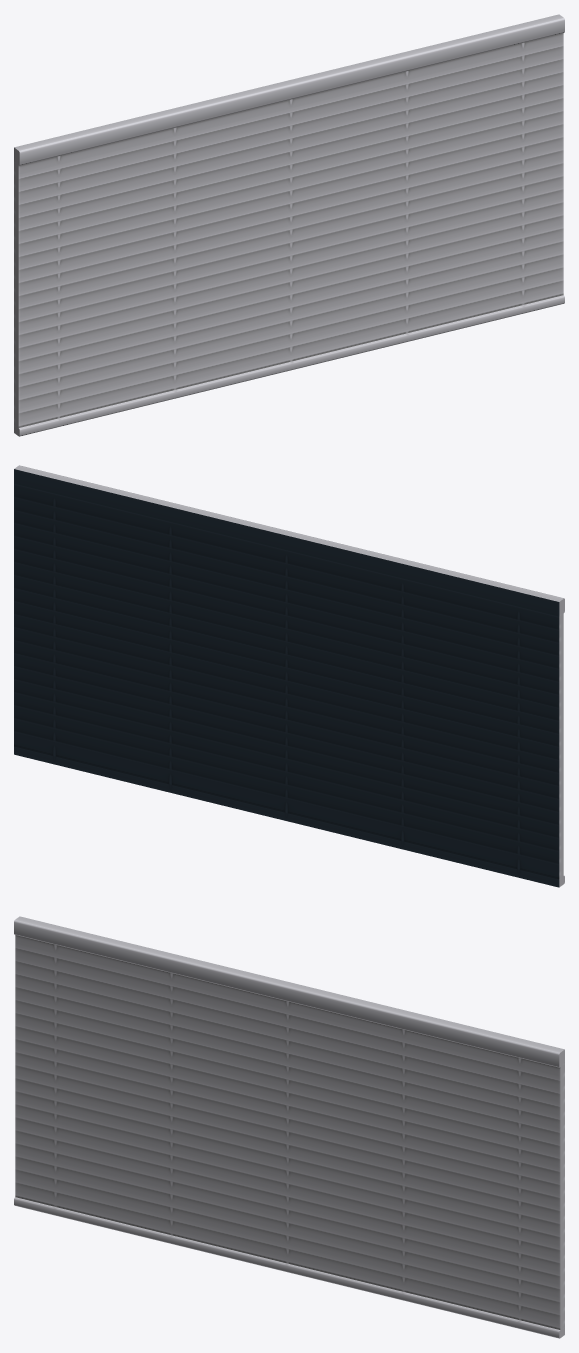
File: PropBlinds01TypeI_1.FBX
The picture shows the model from 3 angles, top to bottom: view 1: azimuth 30°, elevation 25°; view 2: azimuth 150°, elevation 25°; view 3: azimuth 330°, elevation 25°; orthographic projection.
Parts seen in each view (by area): view 1: PropBlinds01TypeI_1; view 2: PropBlinds01TypeI_1; view 3: PropBlinds01TypeI_1.
Part boxes in pixels (<box>): PropBlinds01TypeI_1: <box>14,14,564,436</box>; PropBlinds01TypeI_1: <box>14,465,564,887</box>; PropBlinds01TypeI_1: <box>14,916,564,1338</box>.
Size of what is drawn, in the model's own units: 3 by 1.5 by 0.055.
